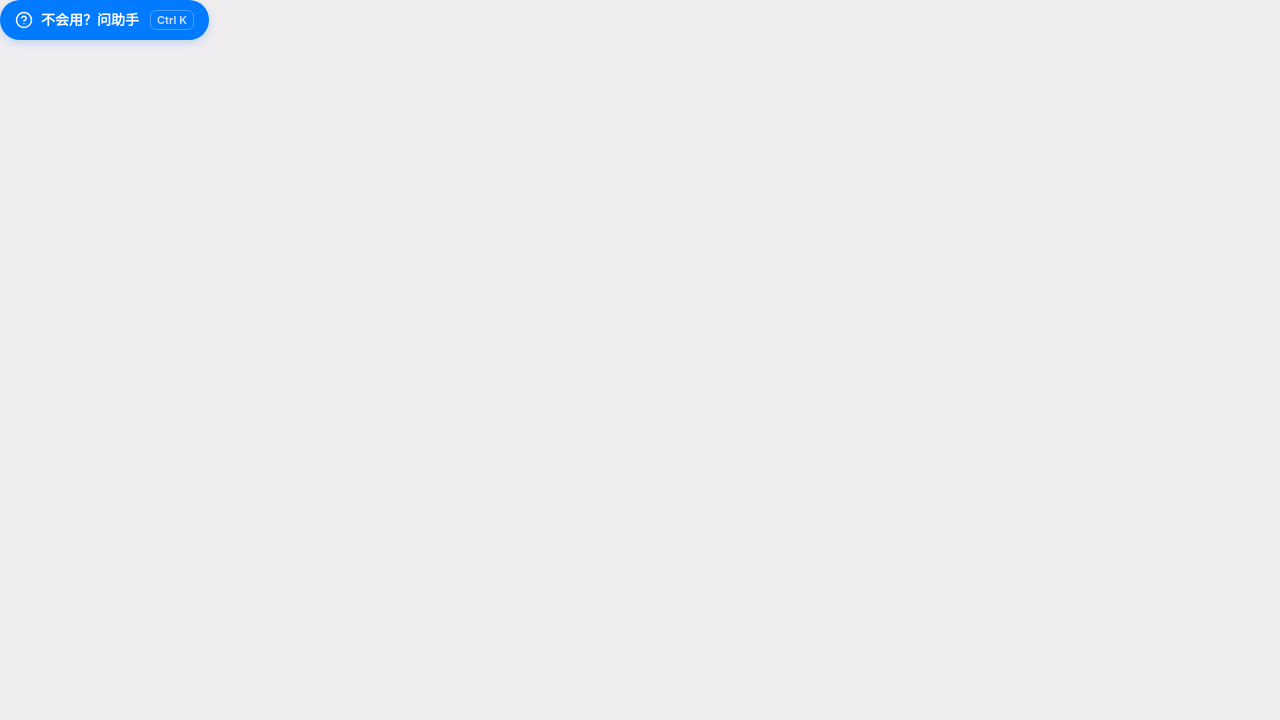
Test: ManagementHelp › clears submitted conversation when the server reports an expired session
The width and height of the screenshot is (1280, 720).
Click the button "不会用？问助手 Ctrl K".
click(104, 20)  # box x1=0 y1=0 x2=209 y2=40
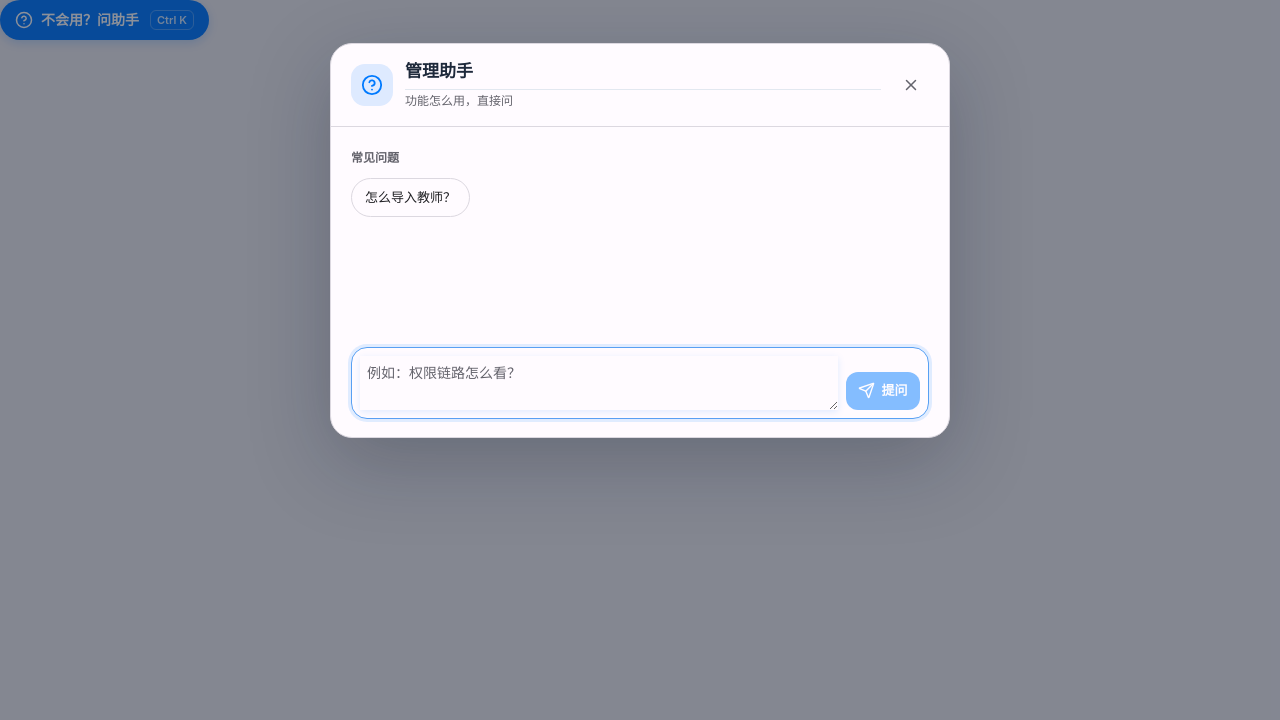
Type "怎么导入教师？" into the text box named "询问管理助手".
click(599, 383); type("怎么导入教师？")  # box x1=360 y1=356 x2=838 y2=410
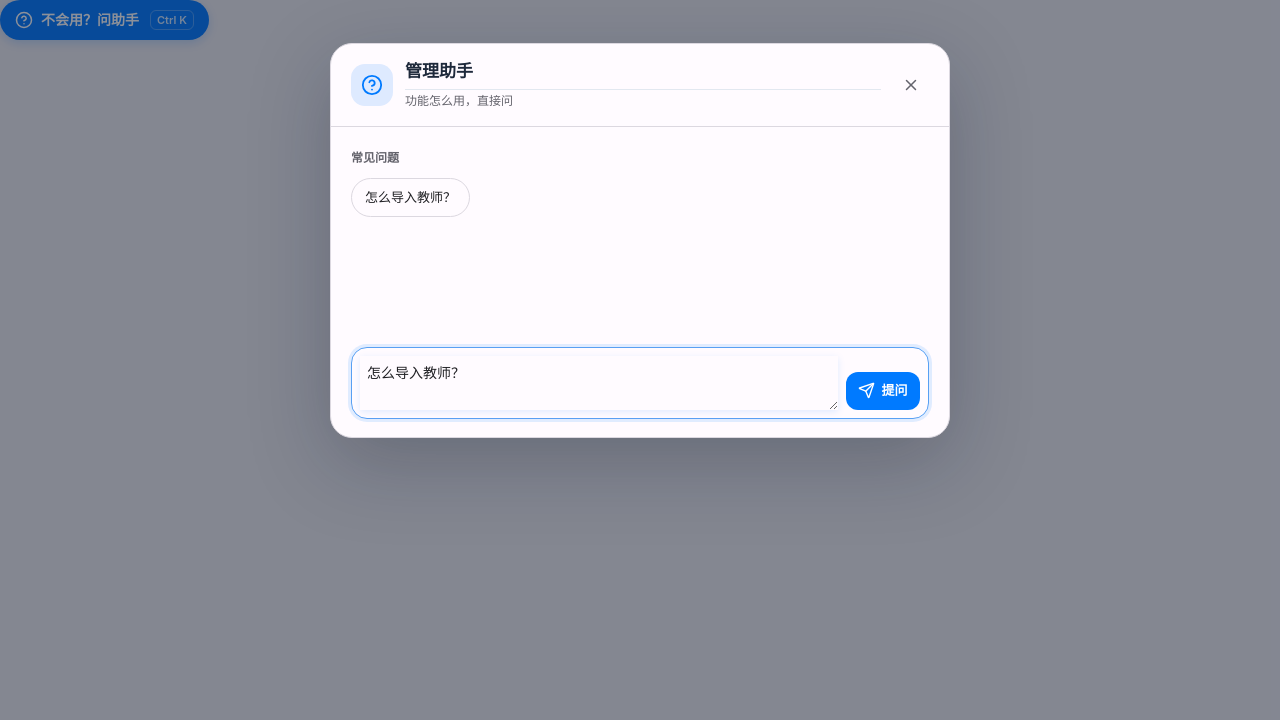
Click the button with aria-label "发送问题".
click(883, 391)  # box x1=846 y1=372 x2=920 y2=410
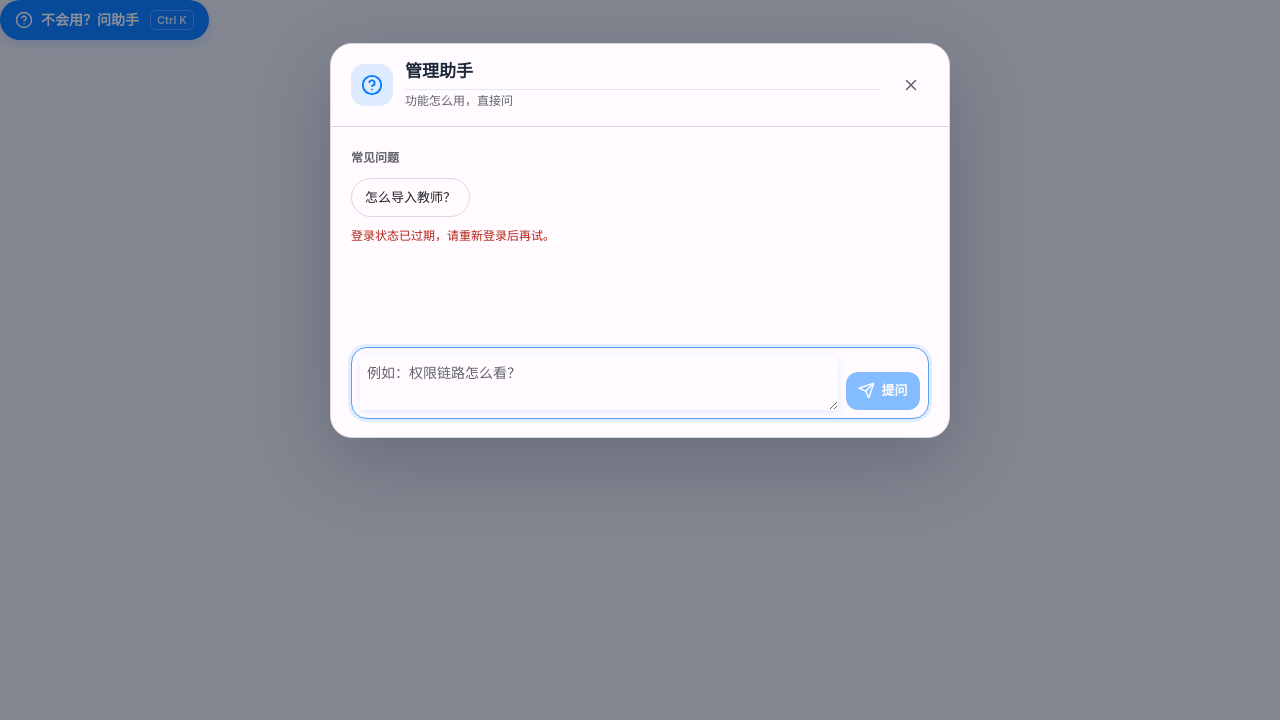
Expected: the message shows "登录状态已过期", x1=351 y1=228 x2=555 y2=243
